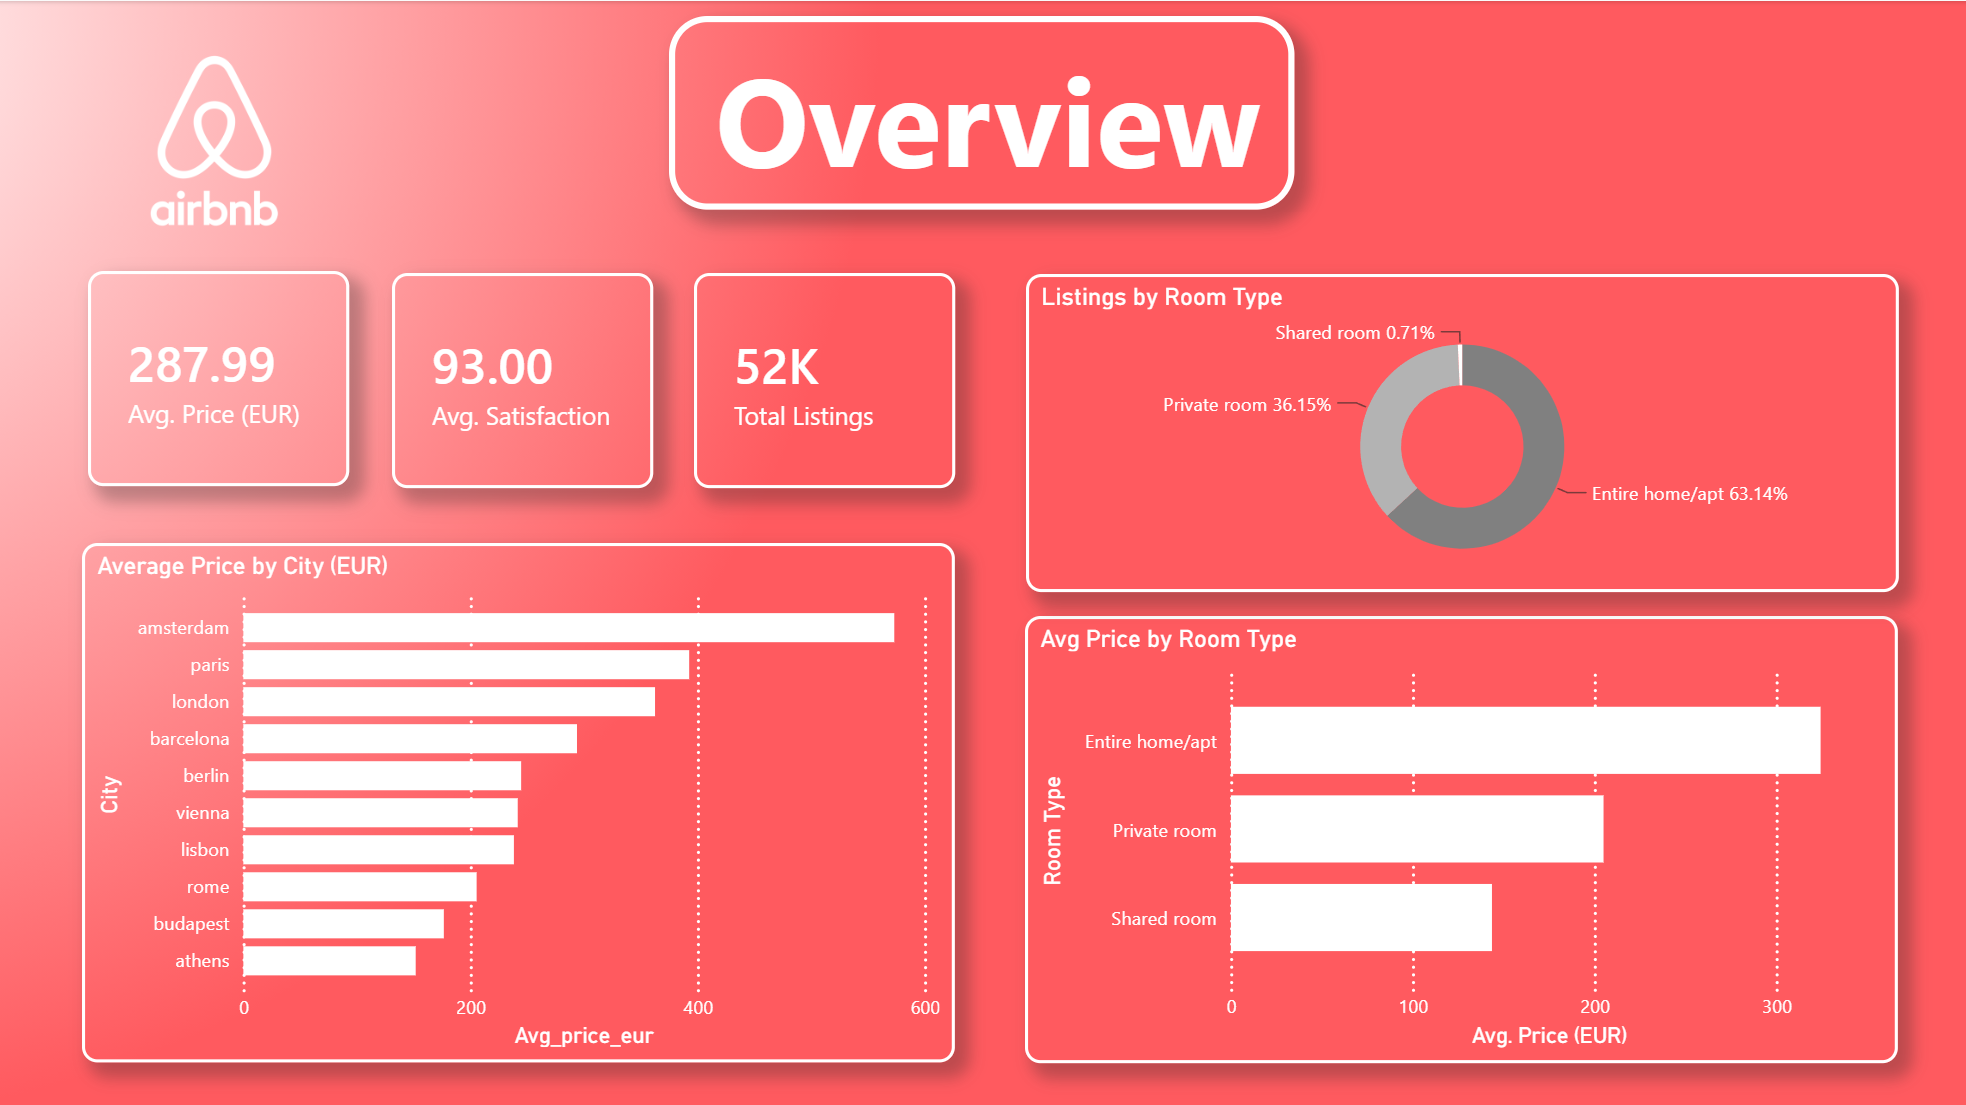

Layout of this report page (visuals, bound fields, positions):
{"tool":"powerbi","page":{"name":"Page 1","canvas":[1280,720],"ordinal":0},"visuals":[{"type":"image","box":[0,0,955.1,720],"z":500},{"type":"cardVisual","fields":{"Data":["Avg(avg_price_by_city.avg_price_eur)"]},"box":[57.8,176,170,140],"z":1000},{"type":"cardVisual","fields":{"Data":["Sum(room_type_breakdown.listing_count)"]},"box":[452.2,177,170,140],"z":2000},{"type":"cardVisual","fields":{"Data":["Avg(satisfaction_by_city.avg_satisfaction)"]},"box":[255.5,177,170,140],"z":3000},{"type":"clusteredBarChart","title":"Average Price by City (EUR)","fields":{"Category":["avg_price_by_city.city"],"Y":["Sum(avg_price_by_city.avg_price_eur)"]},"box":[53.8,352.6,568.5,338.4],"z":4000},{"type":"clusteredBarChart","title":"Avg Price by Room Type","fields":{"Category":["room_type_breakdown.room_type"],"Y":["Avg(room_type_breakdown.avg_price_eur)"]},"box":[668,400.4,568.1,290.5],"z":5000},{"type":"textbox","title":"Overview","box":[436.3,10,407.4,125.8],"z":6000},{"type":"image","box":[30,28,219.7,125.8],"z":7000},{"type":"donutChart","title":"Listings by Room Type","fields":{"Category":["room_type_breakdown.room_type"],"Y":["Sum(room_type_breakdown.listing_count)"]},"box":[668,177.5,567.8,206.6],"z":8000}]}

Visuals, with their boxes in screenshot pixels (x1, y1, x2, y2), scaled from the page's 1280x720 canvas onto the 1966x1105 screenshot:
image: select_region(0, 0, 1467, 1104)
cardVisual - Avg(avg_price_by_city.avg_price_eur): select_region(89, 270, 350, 485)
cardVisual - Sum(room_type_breakdown.listing_count): select_region(695, 272, 956, 487)
cardVisual - Avg(satisfaction_by_city.avg_satisfaction): select_region(392, 272, 654, 487)
"Average Price by City (EUR)" clusteredBarChart: select_region(83, 541, 956, 1060)
"Avg Price by Room Type" clusteredBarChart: select_region(1026, 615, 1899, 1060)
"Overview" textbox: select_region(670, 15, 1296, 208)
image: select_region(46, 43, 384, 236)
"Listings by Room Type" donutChart: select_region(1026, 272, 1898, 589)
